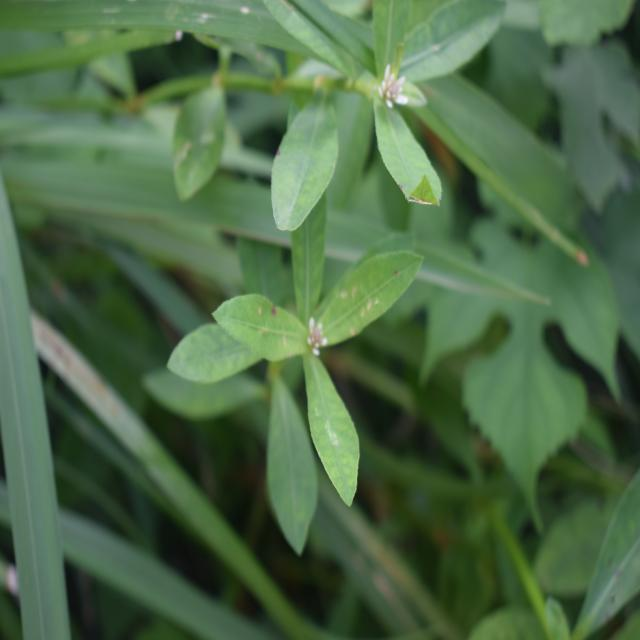Alligatorweed: (175, 205, 408, 520), (180, 2, 474, 232)
